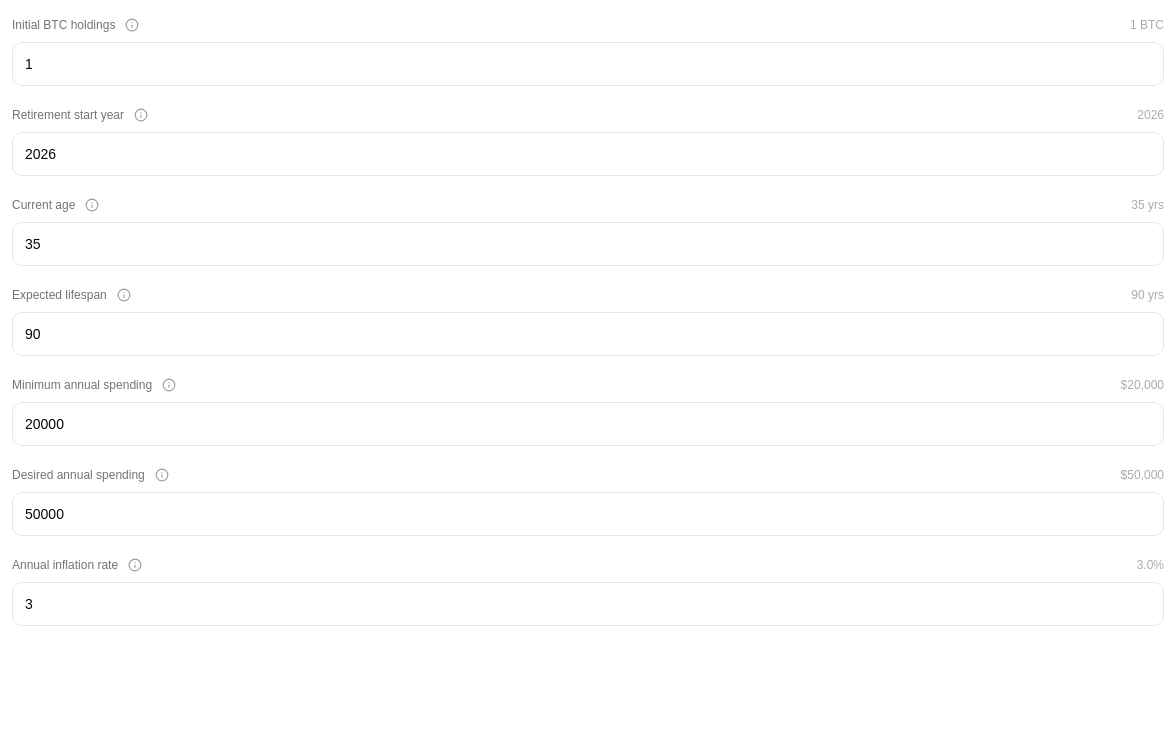
it: ParameterPanel › reverts invalid text to the last valid value on blur
Replace the text in the number field named "Initial BTC holdings value" with "abc" at (588, 64), box [12,42,1164,86]
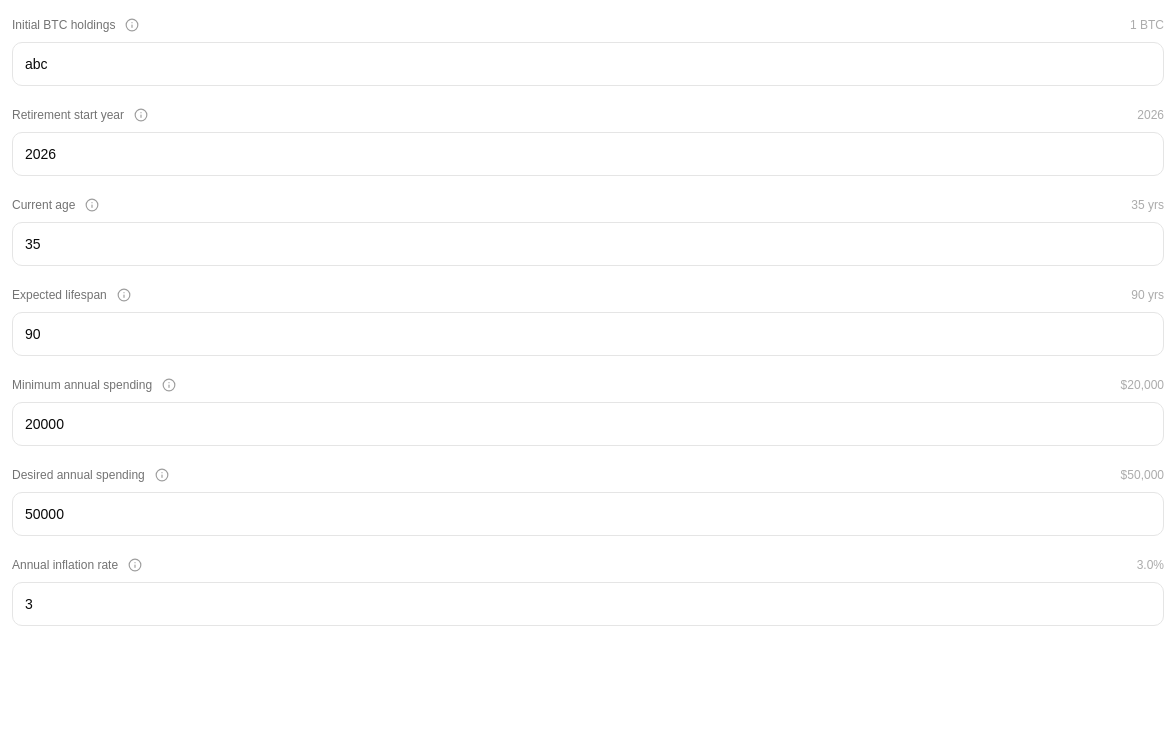
Leave the number field named "Initial BTC holdings value", box [12,42,1164,86]
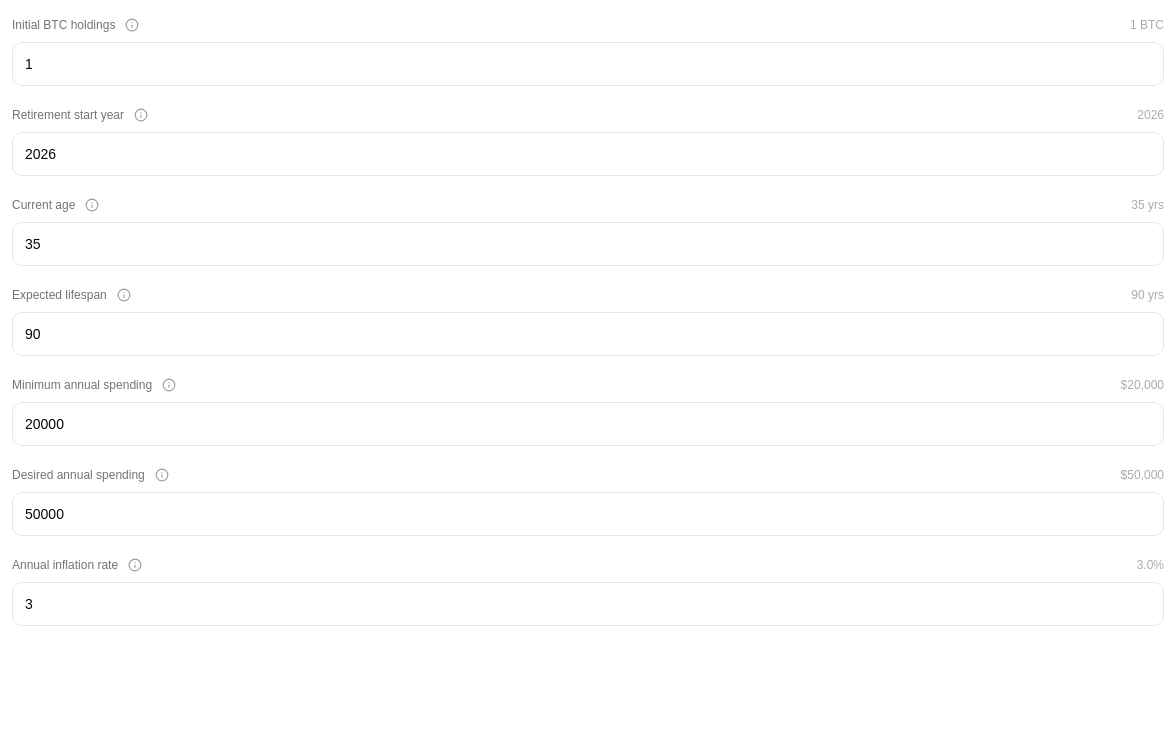
Now the number field labelled "Initial BTC holdings" holds "1", box [12,42,1164,86]
